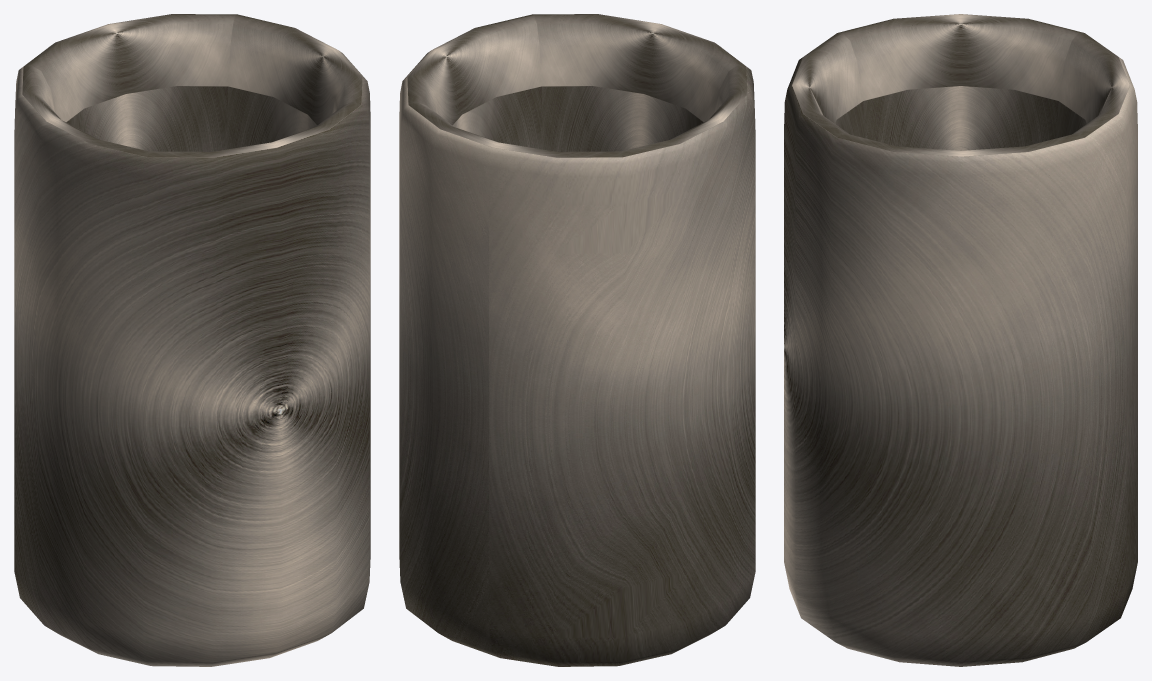
File: penholder.fbx
3 views of the same model, side by side, from view 1: azimuth 30°, elevation 25°; view 2: azimuth 150°, elevation 25°; view 3: azimuth 270°, elevation 25° (orthographic).
Parts seen in each view (by area): view 1: penholder; view 2: penholder; view 3: penholder.
Part boxes in pixels (x1,y1,x2,y2): penholder: [14, 14, 370, 666]; penholder: [399, 14, 755, 666]; penholder: [784, 14, 1137, 666].
Bounding box in the file's own units: 0.9375 × 1.54 × 0.9375.
